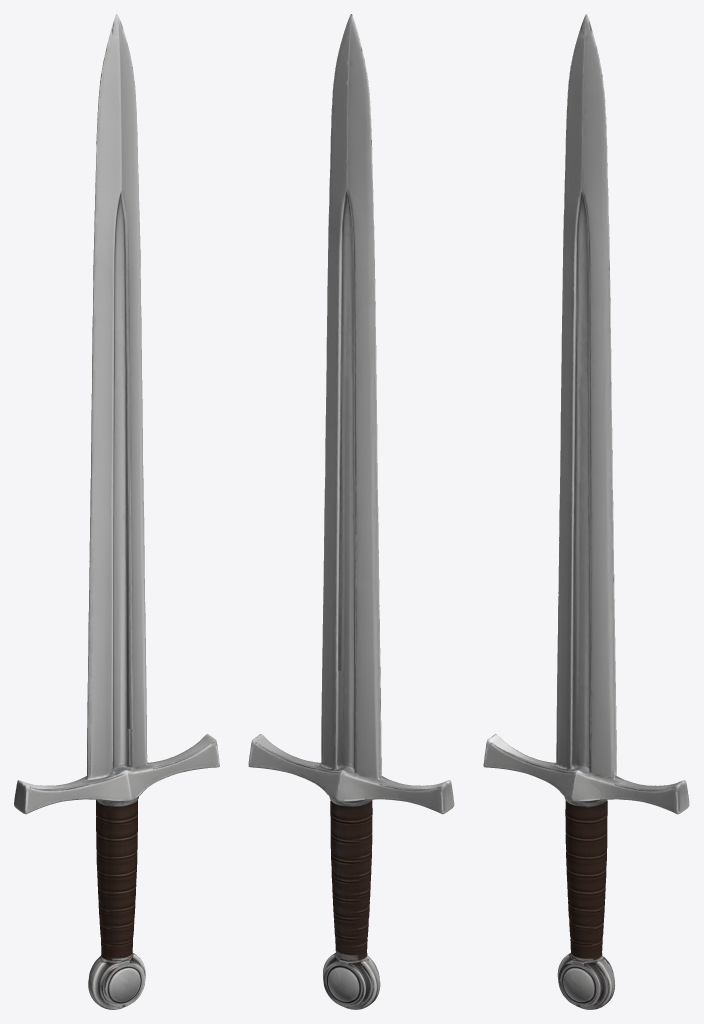
Rendered from Sword.glb.
The picture shows the model from 3 angles, left to right: view 1: azimuth 30°, elevation 25°; view 2: azimuth 150°, elevation 25°; view 3: azimuth 330°, elevation 25°; orthographic projection.
Bounding box in the file's own units: 0.3908 × 1.9 × 0.0991.
1 material, 1 textured.
